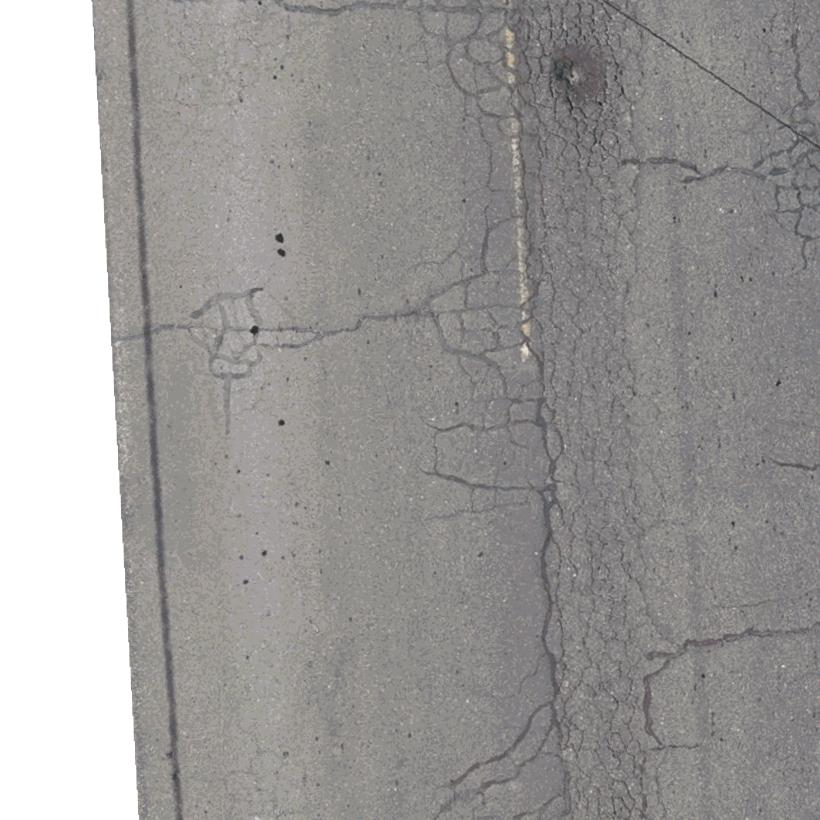GRIETA: (125, 0, 183, 819), (678, 620, 819, 655), (320, 309, 417, 339), (293, 1, 408, 18), (684, 165, 751, 183), (645, 157, 701, 173), (716, 598, 783, 609), (770, 457, 819, 471), (152, 323, 179, 335), (112, 333, 142, 342)
PIEL DE COCODRILO: (405, 0, 682, 819), (160, 0, 295, 149), (750, 0, 819, 273), (179, 284, 320, 415), (217, 745, 317, 819)
